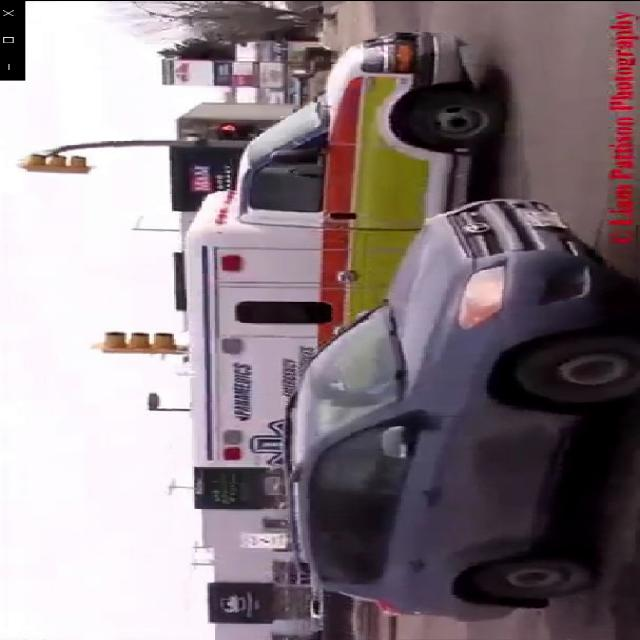emergency: (185, 25, 513, 472)
